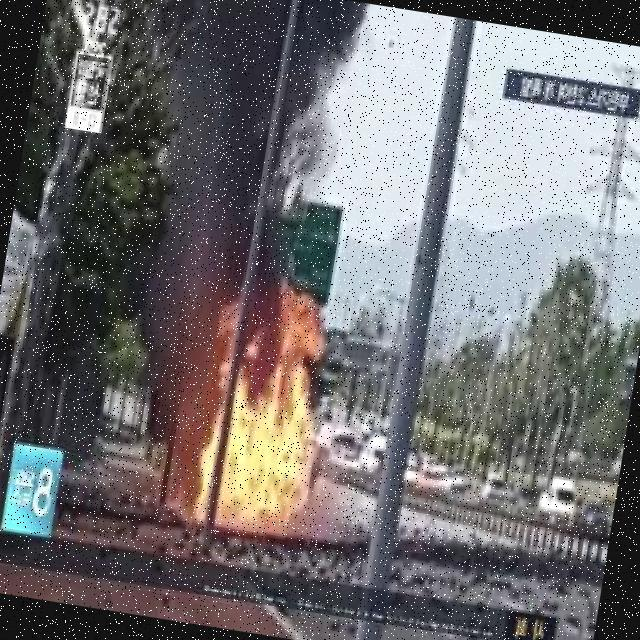Fire: (200, 364, 326, 549)
